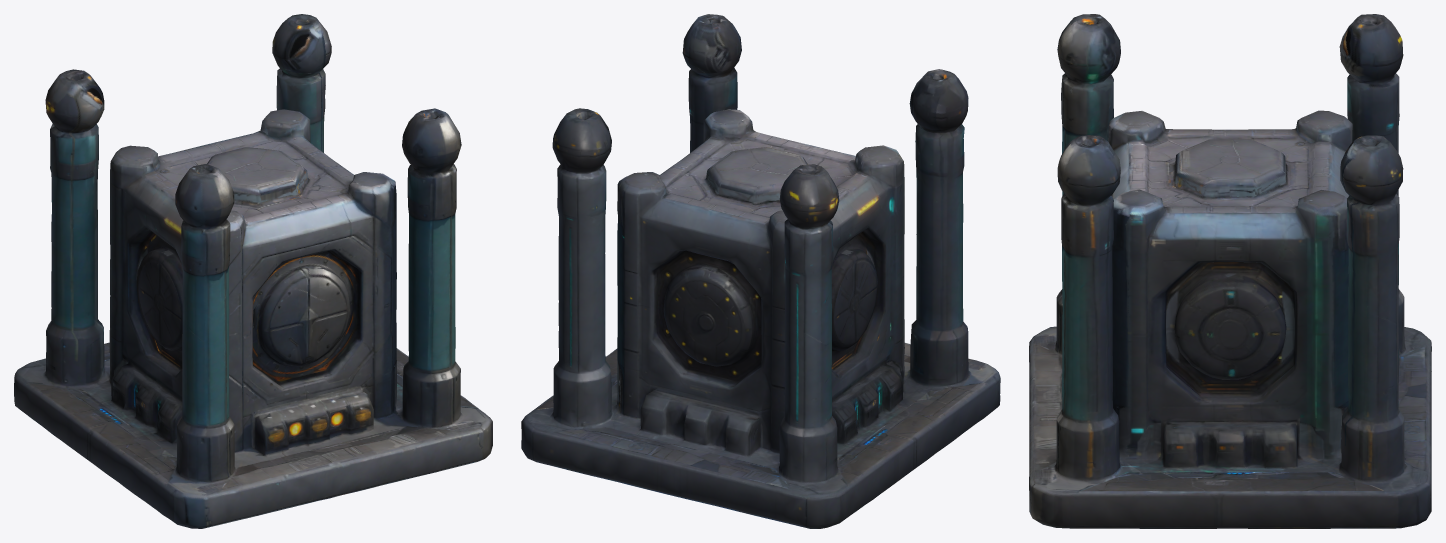
The model's file is A_low_poly_sci_fi_gen_0127180137_texture.fbx.
The picture shows the model from 3 angles, left to right: view 1: azimuth 30°, elevation 25°; view 2: azimuth 150°, elevation 25°; view 3: azimuth 270°, elevation 25°; orthographic projection. The views are drawn at different scales.
Visible parts, largest first — view 1: Mesh1_Mesh1.015; view 2: Mesh1_Mesh1.015; view 3: Mesh1_Mesh1.015.
Boxes of the visible parts, bbox=[...] form: Mesh1_Mesh1.015: bbox=[14, 14, 492, 528]; Mesh1_Mesh1.015: bbox=[521, 14, 1000, 528]; Mesh1_Mesh1.015: bbox=[1029, 14, 1431, 528].
Bounding box in the file's own units: 200 × 201 × 200.
Materials: 1 (1 with a texture image).
